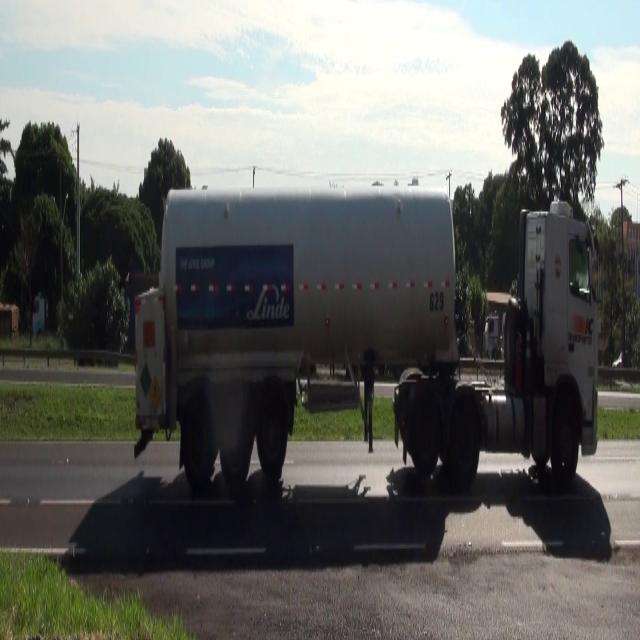-axle: (256, 391, 292, 478), (443, 394, 476, 488), (219, 393, 251, 484), (551, 396, 580, 487), (183, 395, 212, 485), (410, 395, 440, 480)
